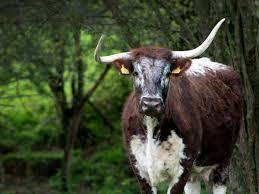cow: (113, 48, 244, 194)
